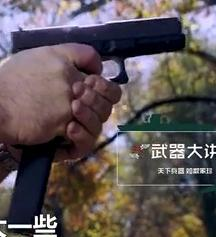gun: (1, 1, 216, 237)
